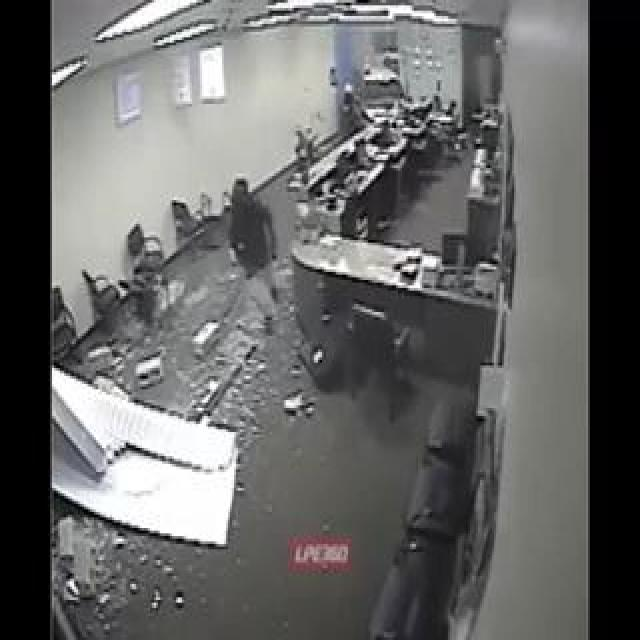thief: (219, 162, 296, 300)
